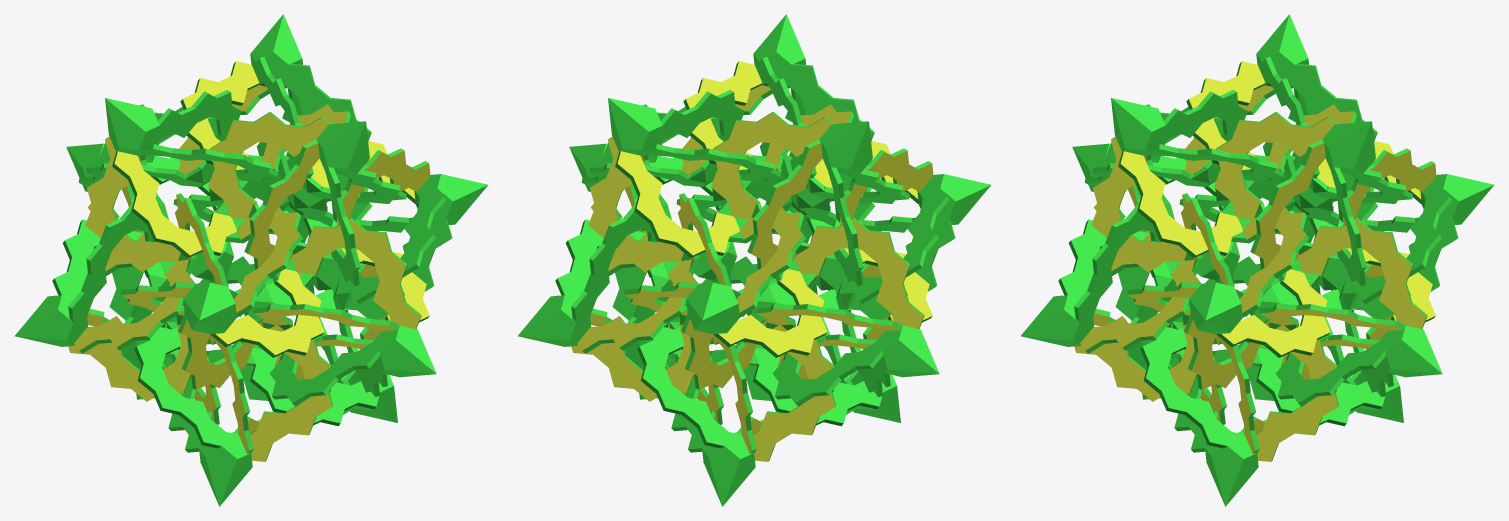
Rendered from StarDodecahedronPolyknot15.glb.
The picture shows the model from 3 angles, left to right: view 1: azimuth 30°, elevation 25°; view 2: azimuth 150°, elevation 25°; view 3: azimuth 270°, elevation 25°; orthographic projection.
Visible parts, largest first — view 1: ESCHER_5.0_STELLATED_DODECAHEDRON_3Augmented_Triangular_Hebe; view 2: ESCHER_5.0_STELLATED_DODECAHEDRON_3Augmented_Triangular_Hebe; view 3: ESCHER_5.0_STELLATED_DODECAHEDRON_3Augmented_Triangular_Hebe.
Part boxes in pixels (<box>): ESCHER_5.0_STELLATED_DODECAHEDRON_3Augmented_Triangular_Hebe: <box>14,14,488,506</box>; ESCHER_5.0_STELLATED_DODECAHEDRON_3Augmented_Triangular_Hebe: <box>517,14,991,506</box>; ESCHER_5.0_STELLATED_DODECAHEDRON_3Augmented_Triangular_Hebe: <box>1020,14,1494,506</box>.
Bounding box in the file's own units: 121 × 100 × 118.
